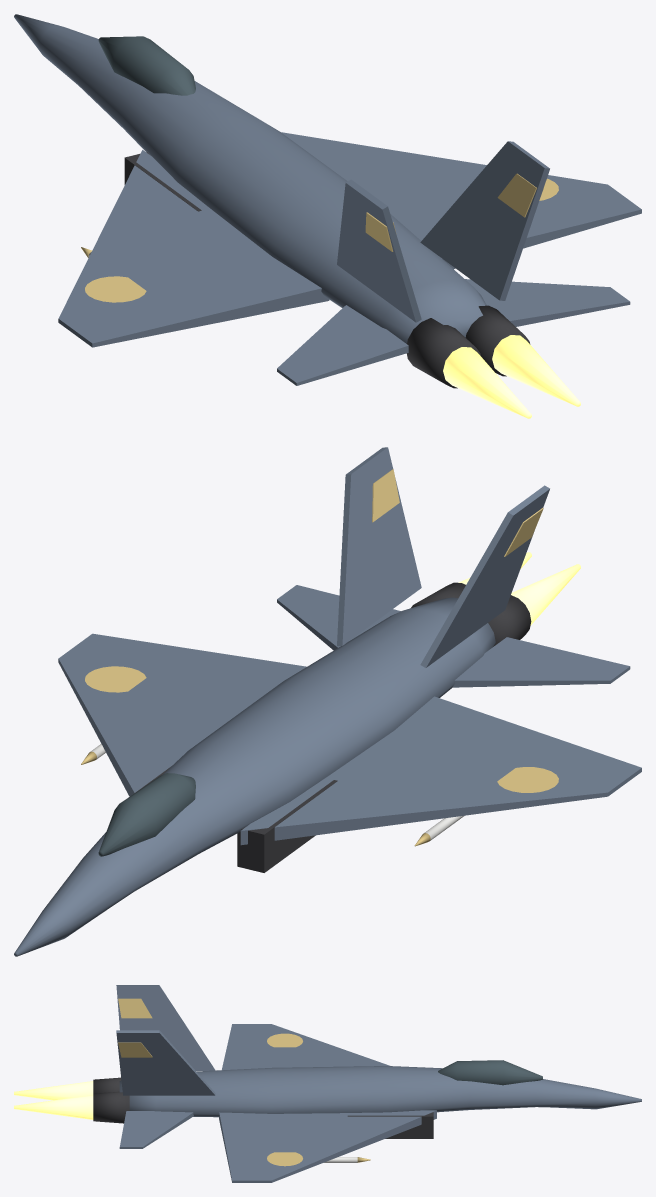
The model's file is jet_halvard.glb.
3 views of the same model, one above another, from view 1: azimuth 30°, elevation 25°; view 2: azimuth 150°, elevation 25°; view 3: azimuth 270°, elevation 25° (orthographic). The views are drawn at different scales.
Parts seen in each view (by area): view 1: Airframe, Canopy, Afterburner_1, Afterburner_0; view 2: Airframe, Canopy, Afterburner_1; view 3: Airframe, Canopy, Afterburner_0, Afterburner_1.
Boxes of the visible parts, x1,y1,x2,y2 form: Airframe: [14, 14, 641, 388]; Canopy: [98, 36, 195, 95]; Afterburner_1: [443, 347, 531, 418]; Afterburner_0: [492, 335, 580, 406]; Airframe: [14, 447, 641, 956]; Canopy: [98, 773, 195, 856]; Afterburner_1: [511, 564, 580, 625]; Airframe: [93, 985, 641, 1182]; Canopy: [438, 1060, 542, 1085]; Afterburner_0: [14, 1095, 93, 1119]; Afterburner_1: [14, 1081, 93, 1100].
Size of the model in its own units: 11.2 by 3.72 by 19.
